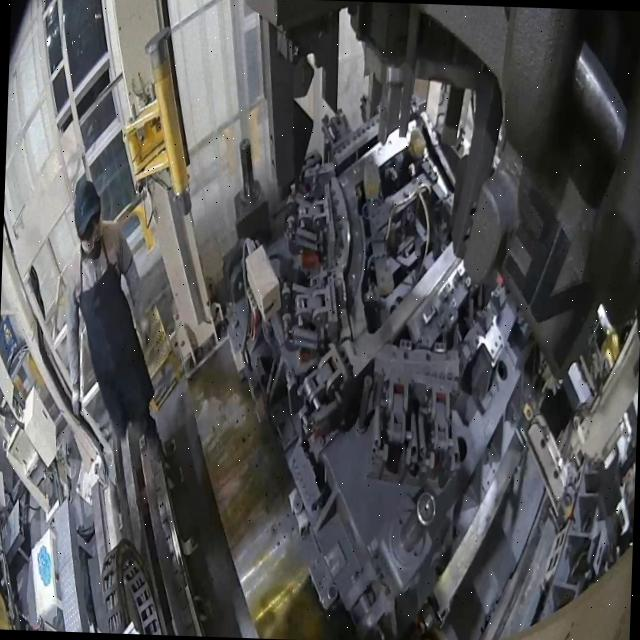Person: (62, 178, 168, 448)
